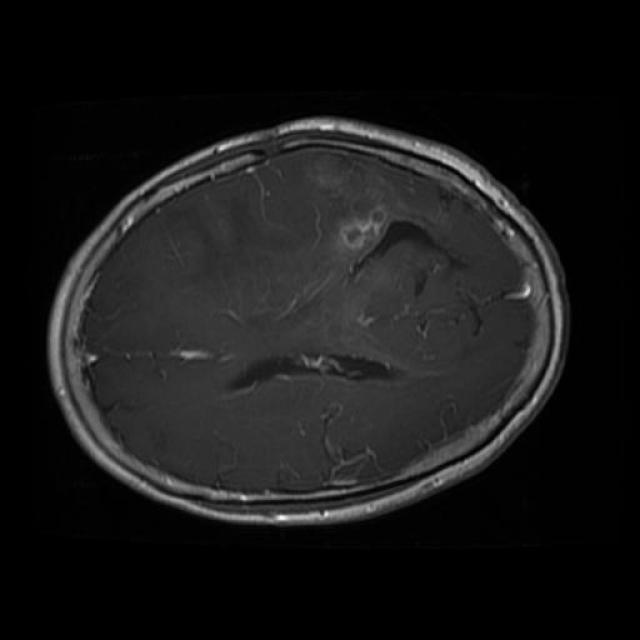Glioma: (307, 148, 398, 276)
